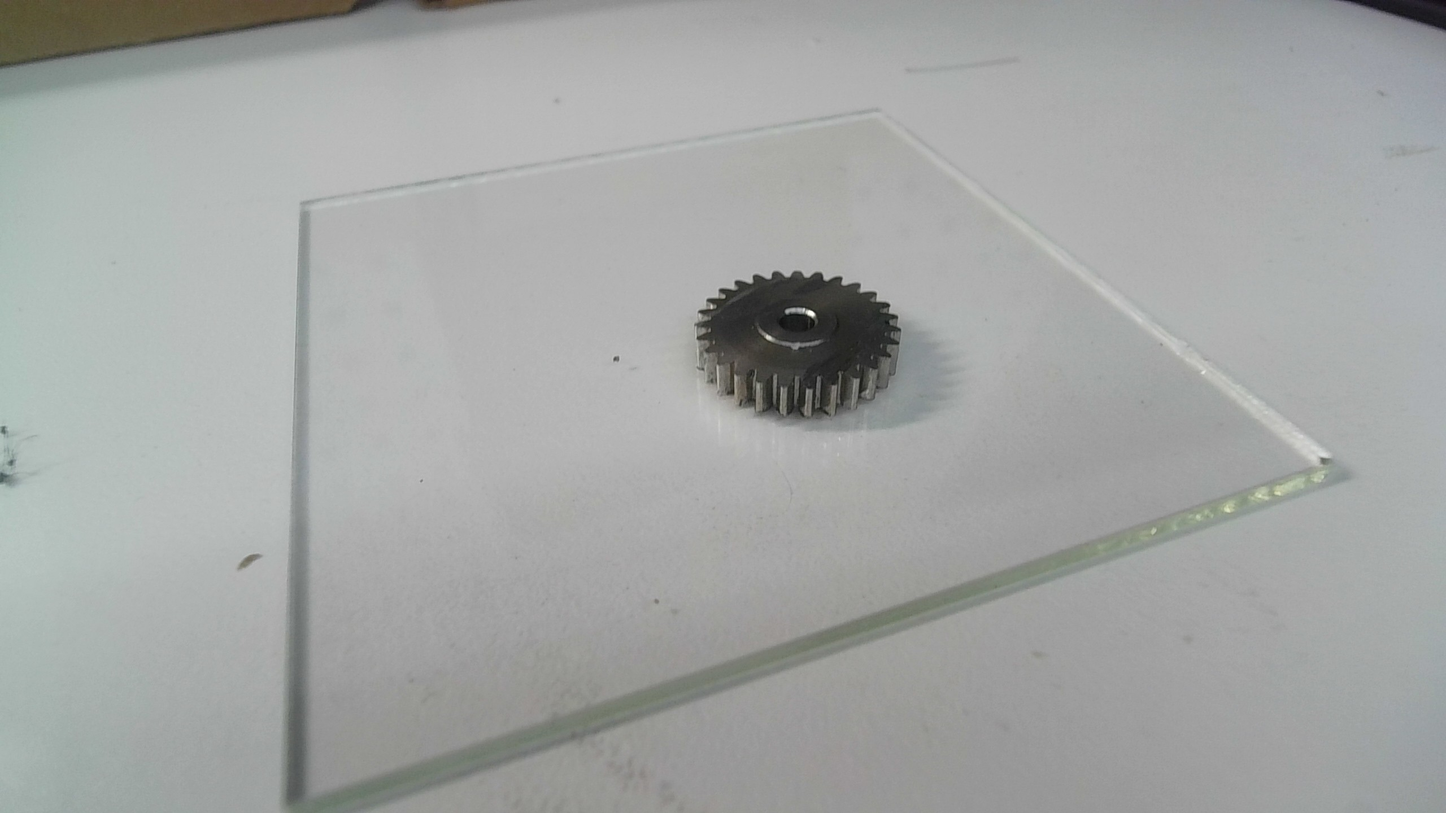gear: (692, 266, 903, 421)
